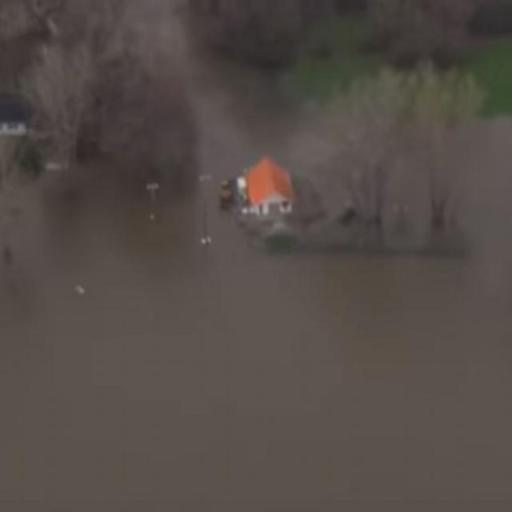flood: (0, 0, 512, 512), (383, 160, 433, 223)
house: (234, 150, 297, 224)
